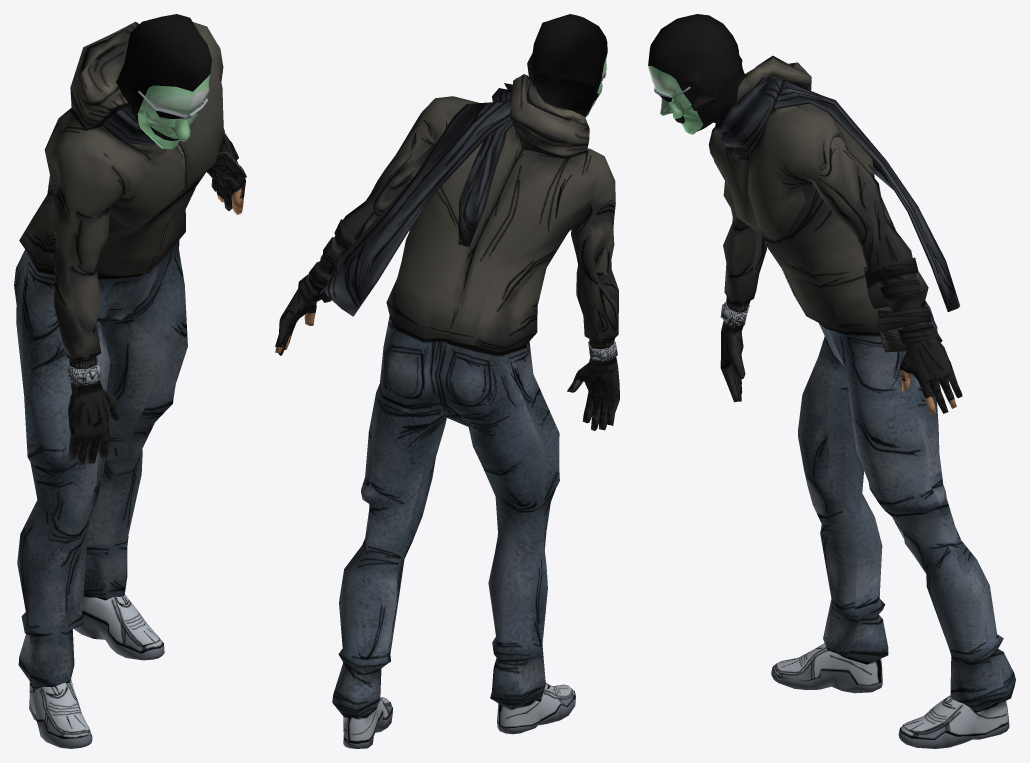
Rendered from thug.dae.
3 renders of one model, left to right at view 1: azimuth 30°, elevation 25°; view 2: azimuth 150°, elevation 25°; view 3: azimuth 270°, elevation 25°, orthographic. The views are drawn at different scales.
Visible parts, largest first — view 1: GreenSkull; view 2: GreenSkull; view 3: GreenSkull.
Part boxes in pixels (left/top/right/bottom): GreenSkull: left=14, top=14, right=246, bottom=748; GreenSkull: left=275, top=14, right=619, bottom=748; GreenSkull: left=648, top=14, right=1015, bottom=748.
Size of the model in its own units: 0.7509 by 0.9127 by 1.87.
1 material, 1 textured.
